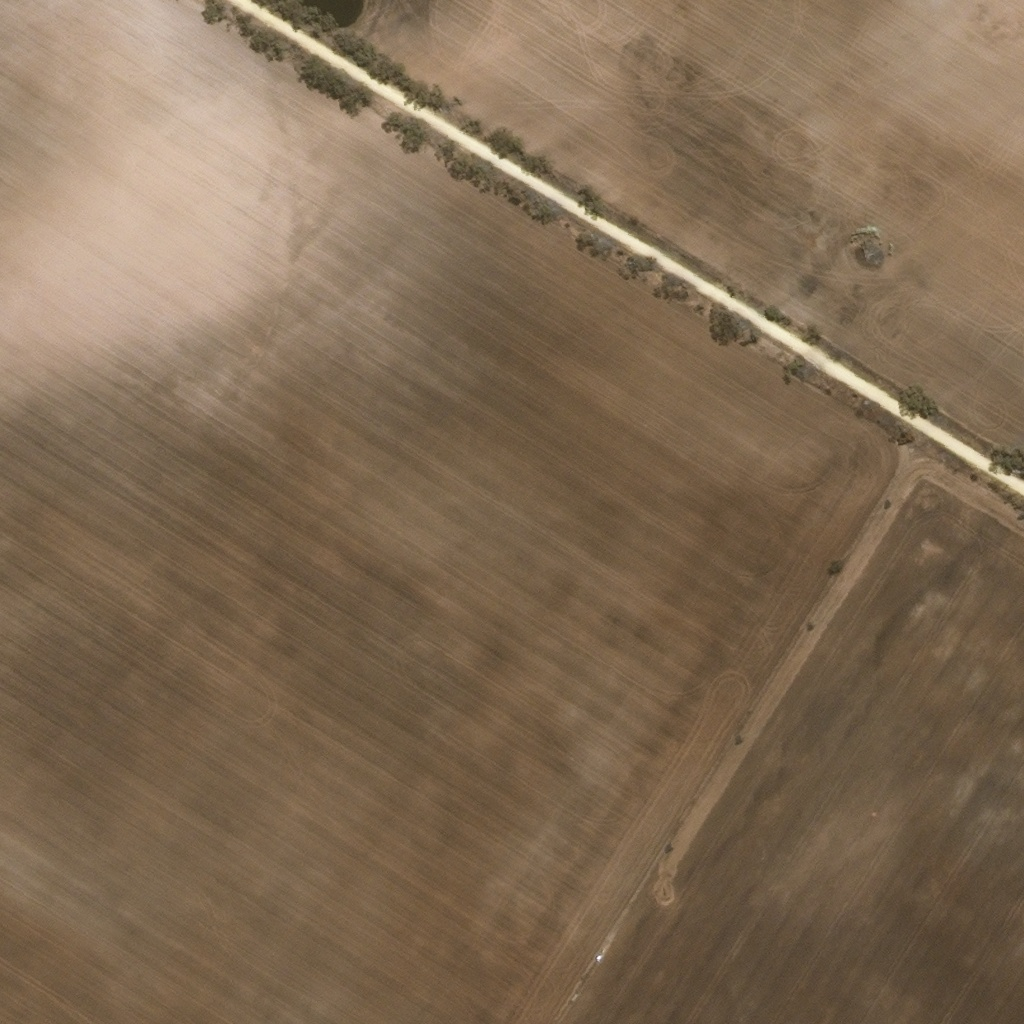0 no-damage: (595, 954, 600, 960)
